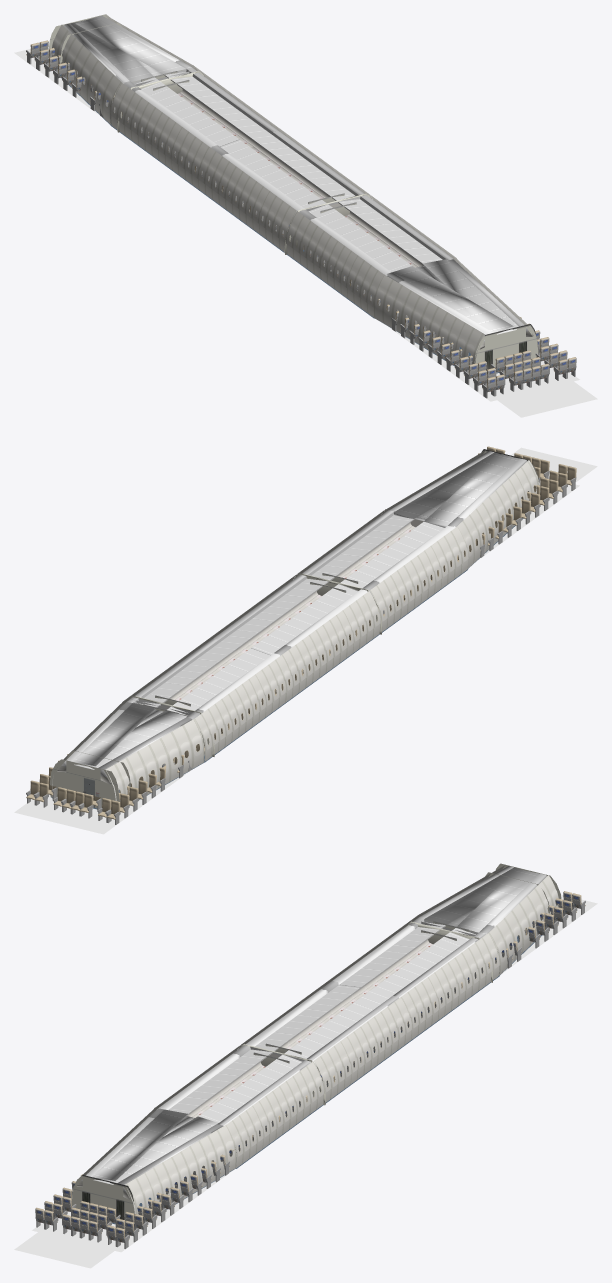
3 renders of one model, top to bottom at view 1: azimuth 30°, elevation 25°; view 2: azimuth 150°, elevation 25°; view 3: azimuth 330°, elevation 25°, orthographic.
Visible parts, largest first — view 1: static-material-0, static-material-1, static-material-5, static-material-4, static-material-6, static-material-2; view 2: static-material-0, static-material-1, static-material-6, static-material-5, static-material-3, static-material-2; view 3: static-material-0, static-material-1, static-material-5, static-material-4, static-material-6, static-material-2.
Part boxes in pixels (bbox=[...]): static-material-0: bbox=[26, 15, 576, 398]; static-material-1: bbox=[52, 15, 538, 373]; static-material-5: bbox=[14, 44, 597, 417]; static-material-4: bbox=[60, 23, 538, 372]; static-material-6: bbox=[26, 40, 576, 389]; static-material-2: bbox=[117, 71, 371, 254]; static-material-0: bbox=[26, 451, 576, 824]; static-material-1: bbox=[51, 449, 540, 809]; static-material-6: bbox=[26, 446, 576, 819]; static-material-5: bbox=[14, 447, 597, 834]; static-material-3: bbox=[49, 759, 119, 808]; static-material-2: bbox=[128, 573, 382, 756]; static-material-0: bbox=[35, 866, 585, 1248]; static-material-1: bbox=[71, 865, 558, 1224]; static-material-5: bbox=[14, 894, 597, 1268]; static-material-4: bbox=[72, 872, 549, 1223]; static-material-6: bbox=[35, 891, 585, 1239]; static-material-2: bbox=[239, 921, 492, 1105].
Bounding box in the file's own units: 5.44 × 2.26 × 49.38.
Materials: 7 (6 with a texture image).
